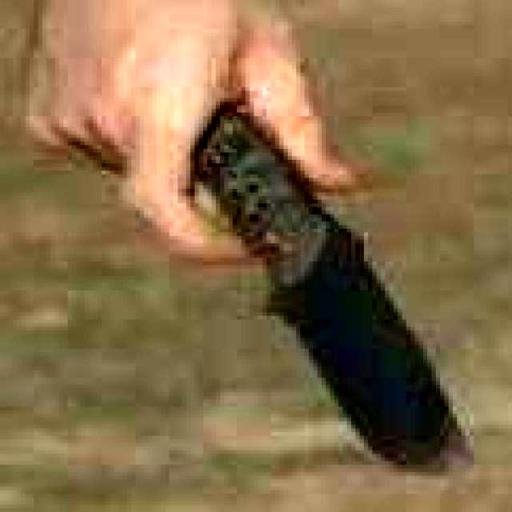knife: (47, 30, 491, 488)
